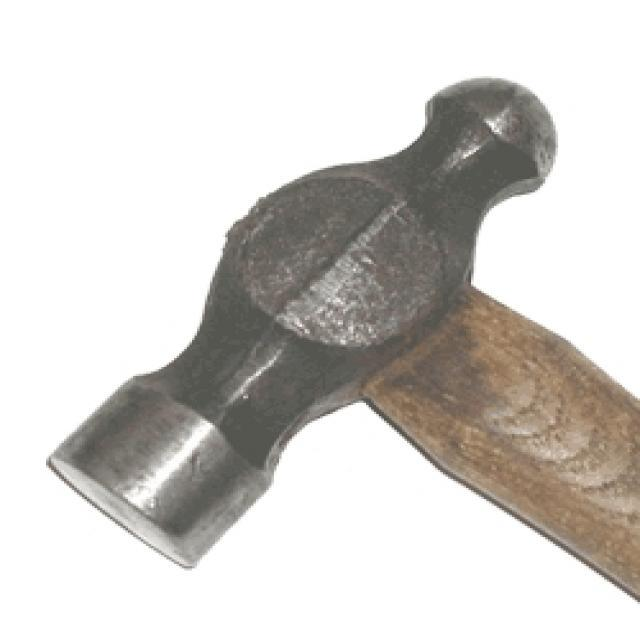hammer: (35, 66, 640, 588)
